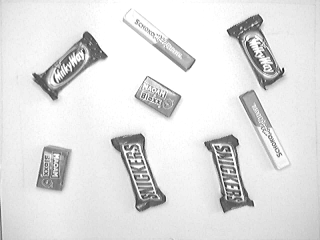Maoam: (132, 74, 184, 119), (34, 144, 73, 191)
Milkyway: (30, 28, 108, 102), (225, 12, 286, 90)
Riegel: (120, 6, 198, 73), (238, 88, 292, 172)
Snickers: (110, 132, 169, 214), (203, 132, 256, 214)
